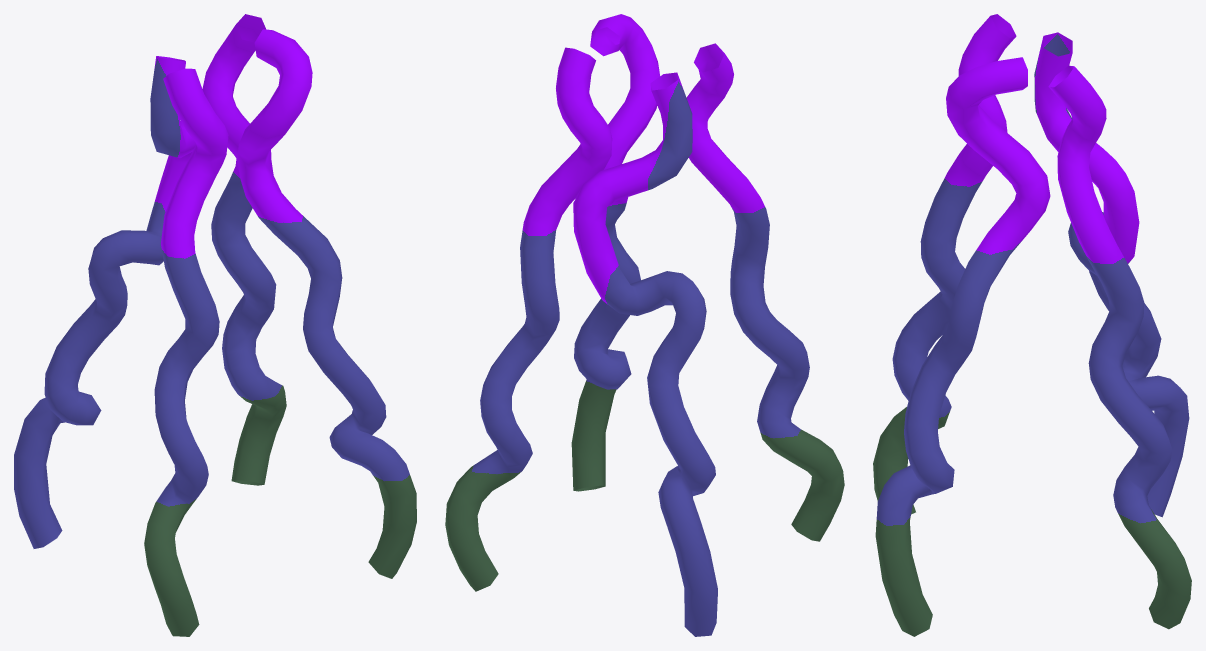
The model's file is VinesForTower.glb.
3 views of the same model, side by side, from view 1: azimuth 30°, elevation 25°; view 2: azimuth 150°, elevation 25°; view 3: azimuth 270°, elevation 25° (orthographic). The views are drawn at different scales.
Visible parts, largest first — view 1: NurbsPath.005; view 2: NurbsPath.005; view 3: NurbsPath.005.
Boxes of the visible parts, <box> form: NurbsPath.005: <box>14,14,416,636</box>; NurbsPath.005: <box>445,14,844,636</box>; NurbsPath.005: <box>873,14,1191,636</box>.
Bounding box in the file's own units: 4.77 × 8.92 × 4.78.
Materials: 1 (1 with a texture image).
